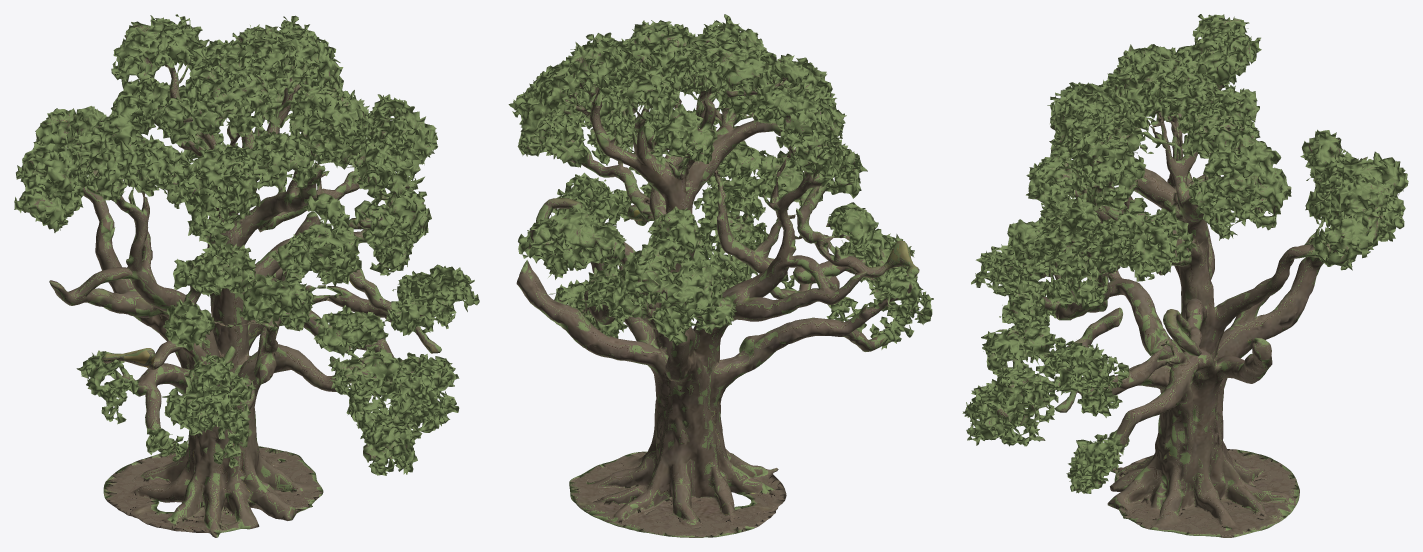
Rendered from valley-oak.glb.
3 renders of one model, left to right at view 1: azimuth 30°, elevation 25°; view 2: azimuth 150°, elevation 25°; view 3: azimuth 270°, elevation 25°, orthographic. The views are drawn at different scales.
Size of the model in its own units: 1.61 by 1.9 by 1.71.
Materials: 1 (1 with a texture image).
